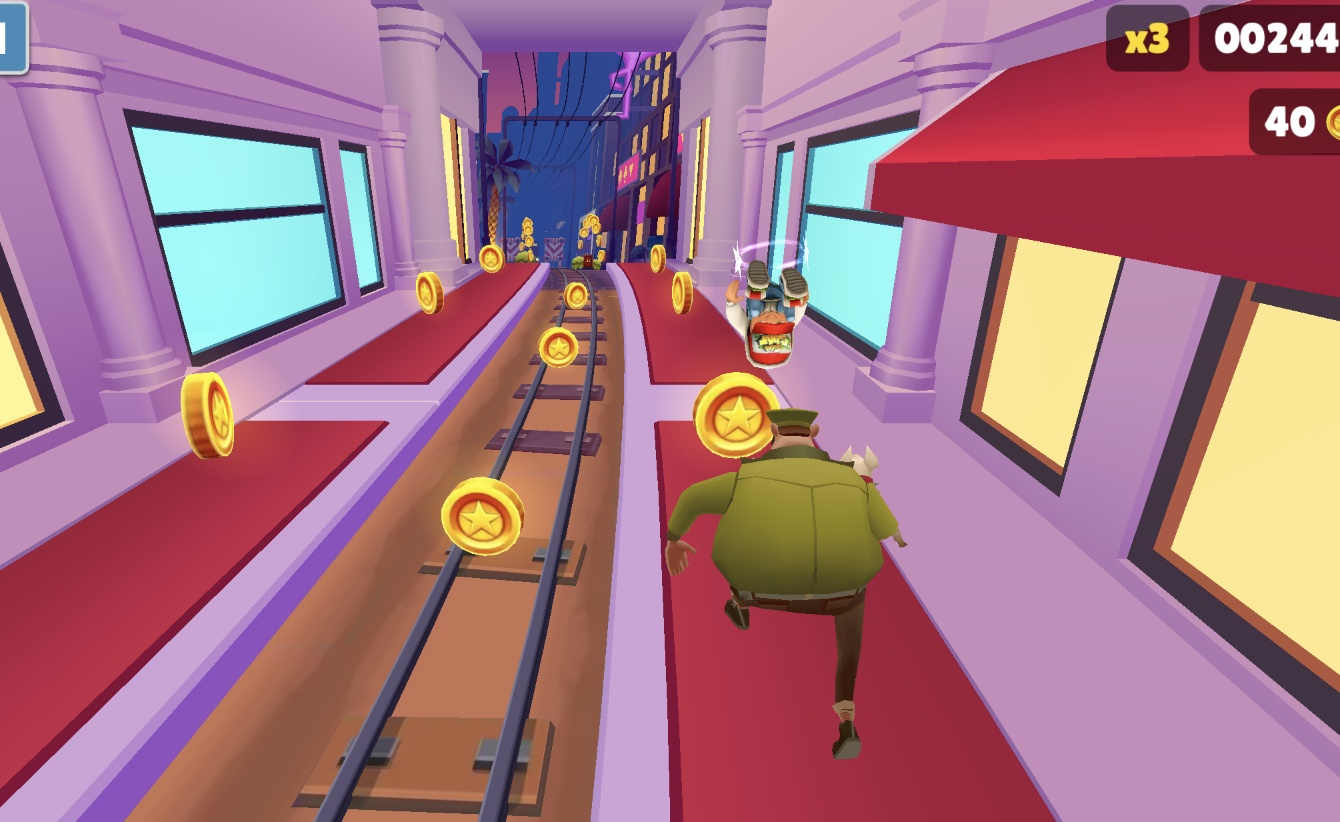bush: (572, 252, 586, 266), (517, 249, 535, 259), (593, 254, 602, 268)
overhead_barrier: (544, 235, 566, 262), (505, 237, 522, 259)
small_obstacle: (583, 250, 593, 265)
